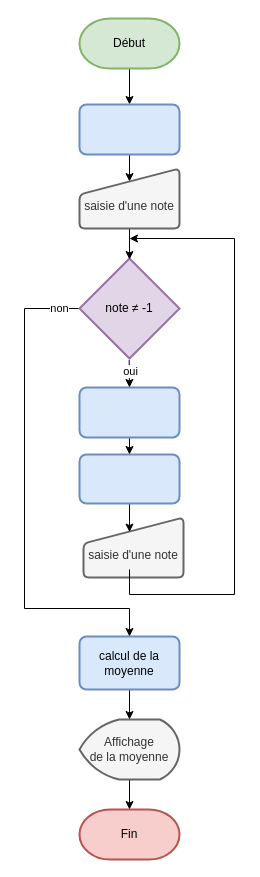
This 260x877 diagram has some shape labels left out. The shapes that lost their labels are listed below. From the top down, each one's centre as x and y in pixels, then its label:
(x=129, y=129): Initialisation des variables
(x=129, y=412): calcul de la nouvelle somme
(x=129, y=478): incrémentation du nombre de notes
